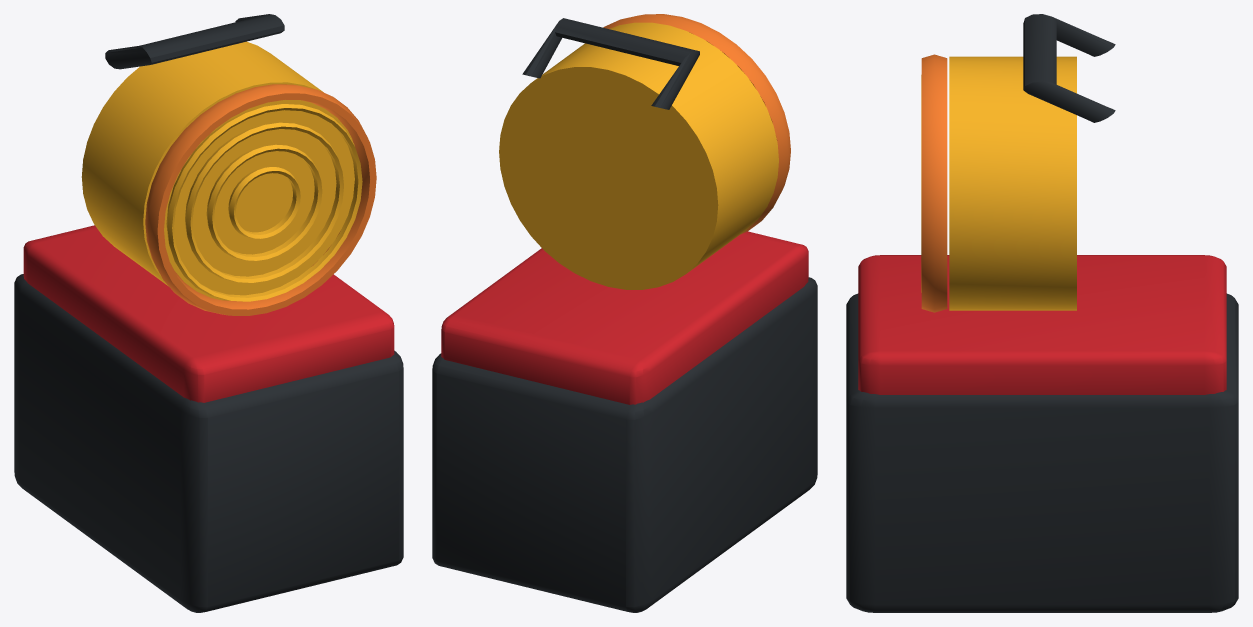
File: ob_warning_lamp_2.glb
3 renders of one model, left to right at view 1: azimuth 30°, elevation 25°; view 2: azimuth 150°, elevation 25°; view 3: azimuth 270°, elevation 25°, orthographic. The views are drawn at different scales.
Visible parts, largest first — view 1: ob_warning_lamp_2; view 2: ob_warning_lamp_2; view 3: ob_warning_lamp_2.
Boxes of the visible parts, x1,y1,x2,y2 form: ob_warning_lamp_2: (14,14,403,612); ob_warning_lamp_2: (432,14,817,612); ob_warning_lamp_2: (846,14,1238,612).
Size of the model in its own units: 0.2 by 0.42 by 0.29.
